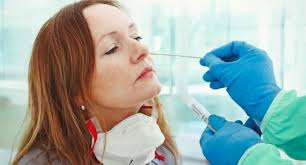Gloves: (199, 36, 277, 123), (194, 113, 259, 165)
without_mask: (96, 18, 163, 108)
